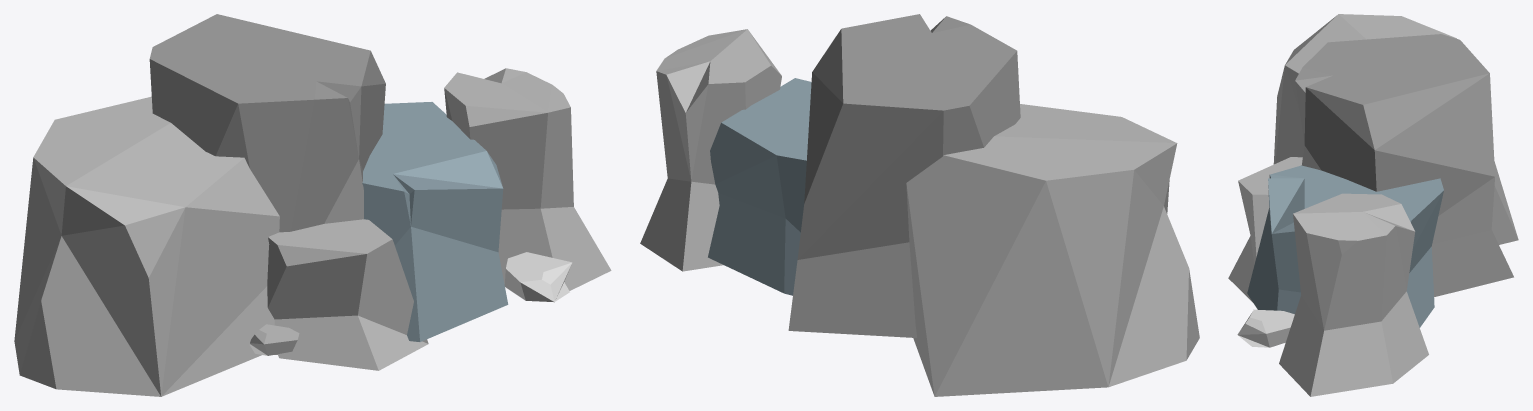
Rendered from rock_008.glb.
3 views of the same model, side by side, from view 1: azimuth 30°, elevation 25°; view 2: azimuth 150°, elevation 25°; view 3: azimuth 270°, elevation 25° (orthographic). The views are drawn at different scales.
Parts seen in each view (by area): view 1: rock_008; view 2: rock_008; view 3: rock_008.
Part boxes in pixels (x1=…): rock_008: x1=14, y1=14, x2=611, y2=396; rock_008: x1=640, y1=14, x2=1199, y2=396; rock_008: x1=1228, y1=14, x2=1518, y2=396.
Size of the model in its own units: 23.93 by 10.39 by 12.97.
Materials: 1 (1 with a texture image).
